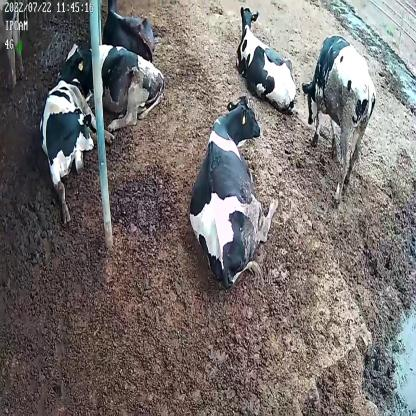cow: (188, 95, 280, 292), (301, 36, 378, 209), (38, 77, 113, 226), (56, 43, 167, 133), (235, 3, 296, 113), (103, 0, 155, 62)
